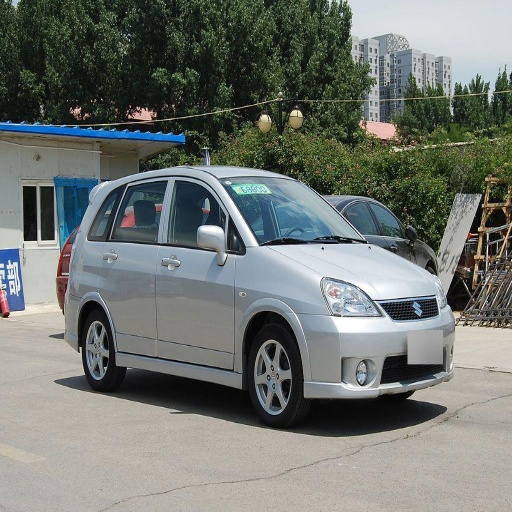back_right_door: (85, 177, 172, 356)
front_bumper: (298, 292, 456, 394)
front_right_door: (157, 177, 241, 370)
front_right_light: (321, 277, 380, 317)
